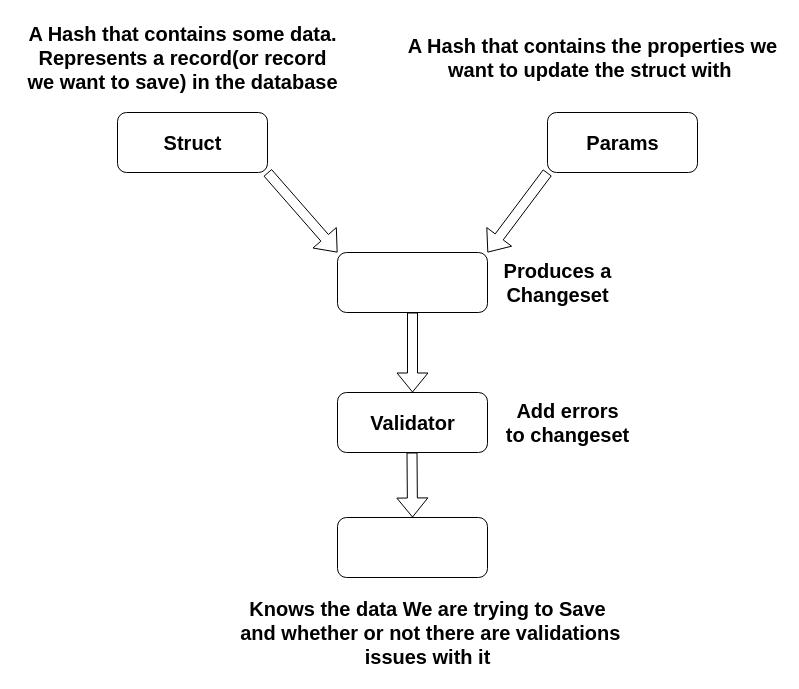
The diagram is 799 pixels wide and 689 high, and some of its shapes have lost their labels. Each missing label, with the centre of its shape:
Cast: [412,282]
Changeset: [412,547]
